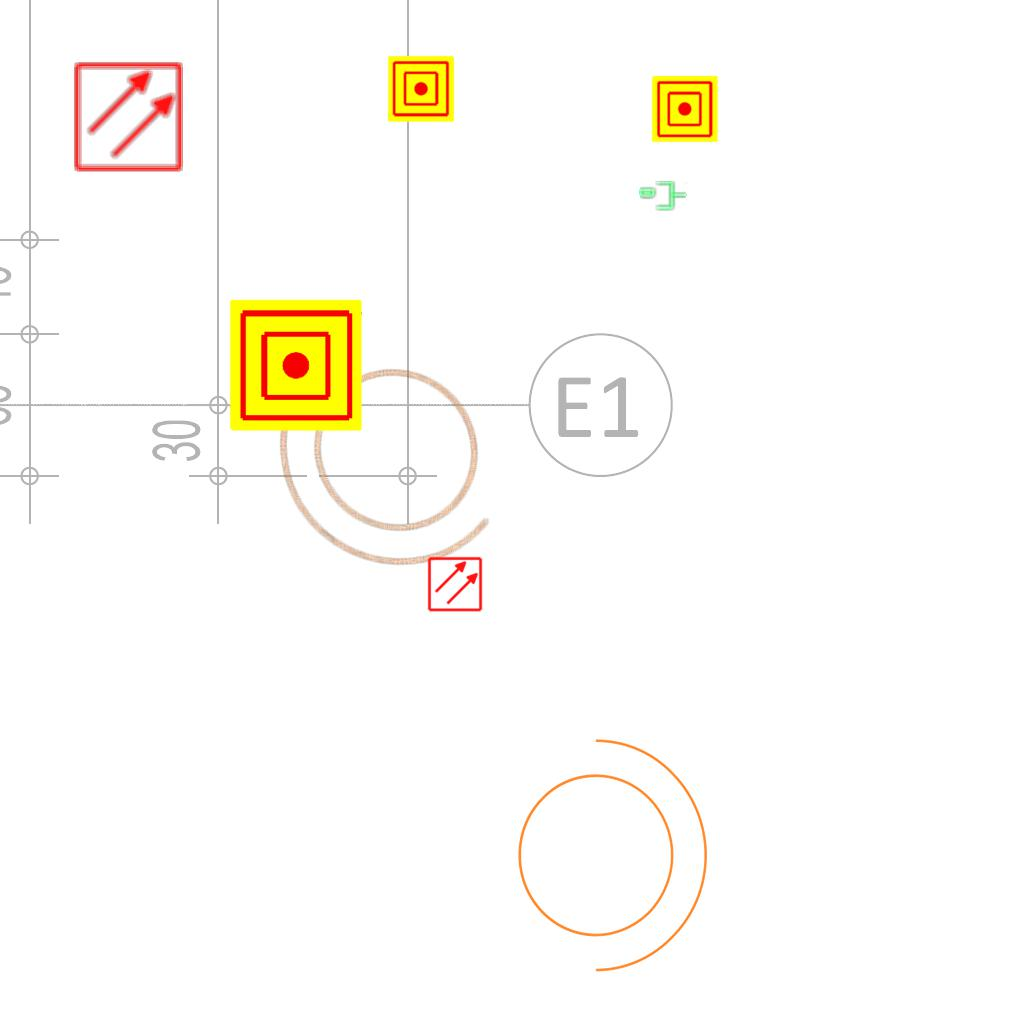Datenanschluss_einfach: (638, 179, 688, 213)
NAM-Nichtautomatischer_Melder: (230, 299, 362, 431), (652, 76, 718, 142), (388, 56, 454, 122)
RMO_Rauchmelder_optischer: (72, 60, 185, 173), (427, 556, 483, 612)
Scheinwerfer_fuer_Alarmbeleuchtung: (221, 291, 569, 632), (493, 717, 718, 981)
